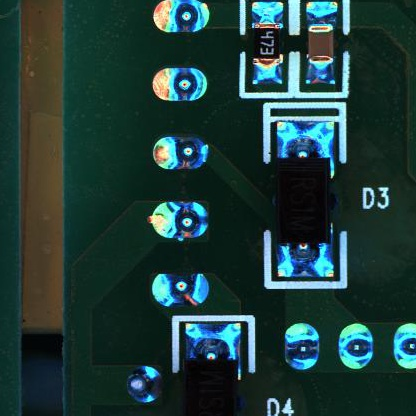spot: (148, 199, 210, 241), (152, 271, 210, 307), (151, 67, 208, 103), (153, 136, 211, 171), (336, 323, 377, 372), (283, 321, 321, 373), (151, 1, 212, 33), (124, 365, 164, 404), (393, 323, 416, 370)
